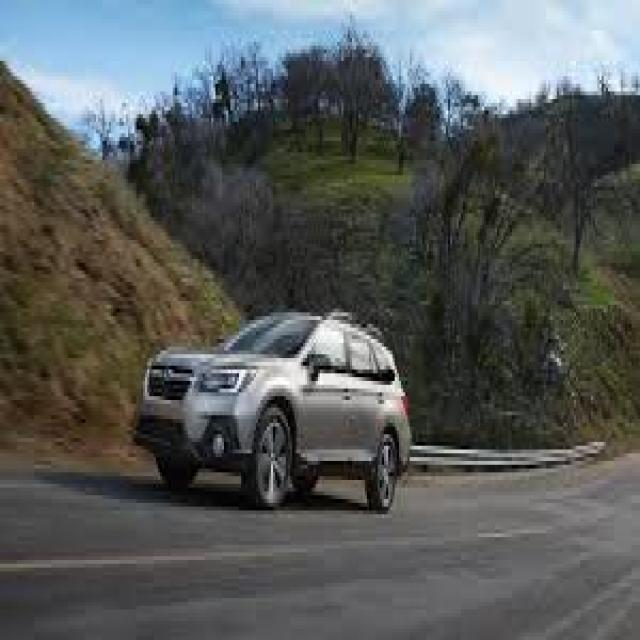car: (126, 274, 416, 514)
